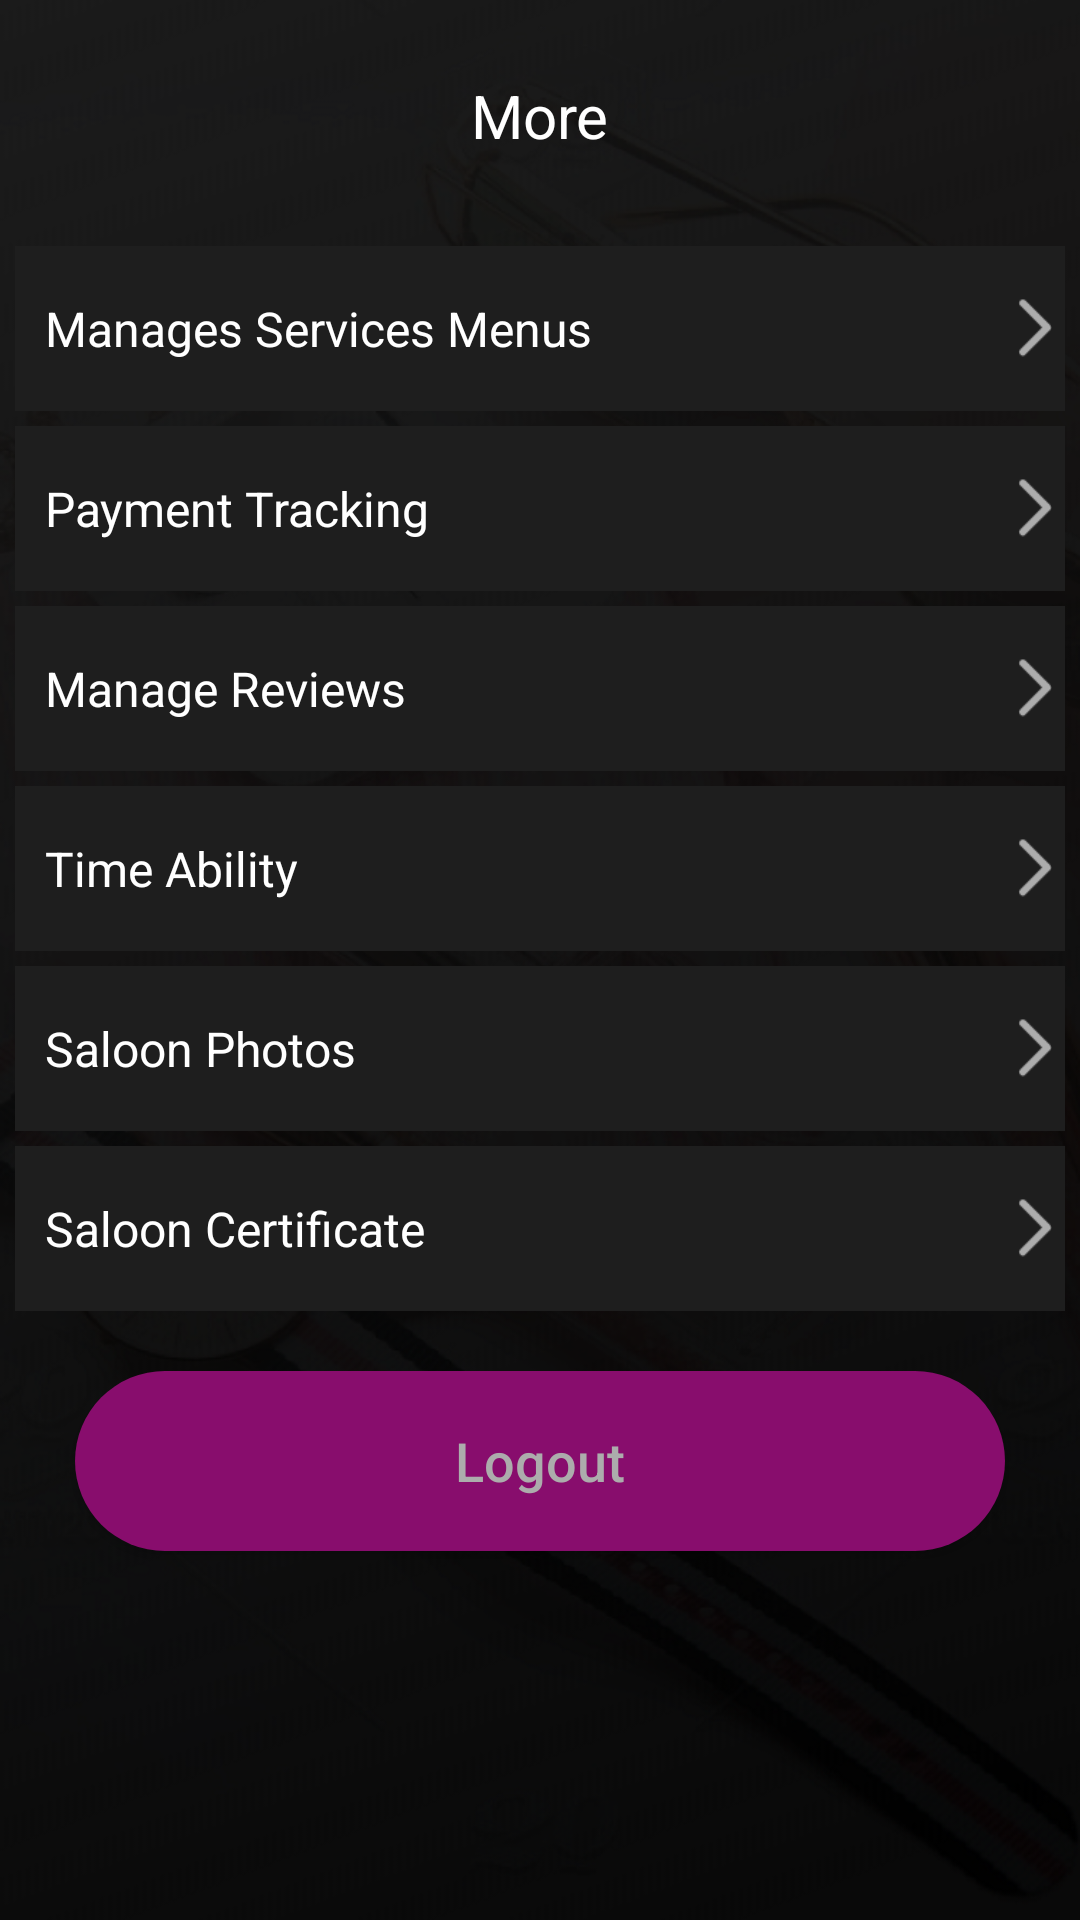

Point at icon controls on the screen. Image size 1080 × 1920, points as [x,y].
arrow: [1035,328], [1035,508], [1035,688], [1035,868], [1035,1048], [1035,1228]
